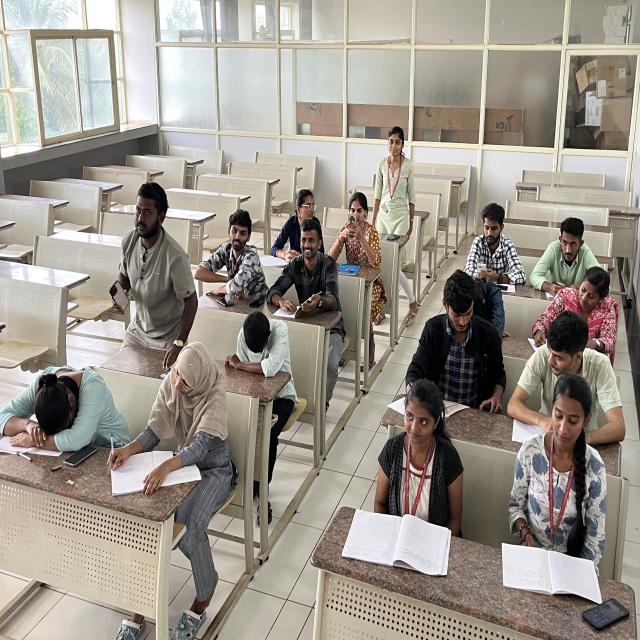Reading: (501, 375, 619, 563), (369, 384, 468, 550), (411, 292, 512, 422)
Sleeping: (4, 357, 124, 437), (226, 308, 291, 378)
Using Phone: (460, 200, 524, 284)
Writing: (102, 333, 238, 498)
